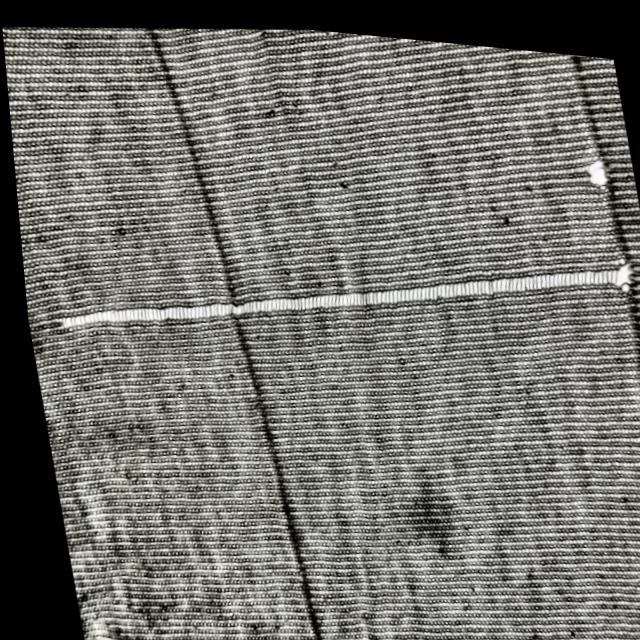Hole: (459, 273, 567, 350), (124, 69, 172, 110), (395, 64, 436, 108)
Stitch: (221, 50, 407, 640)
